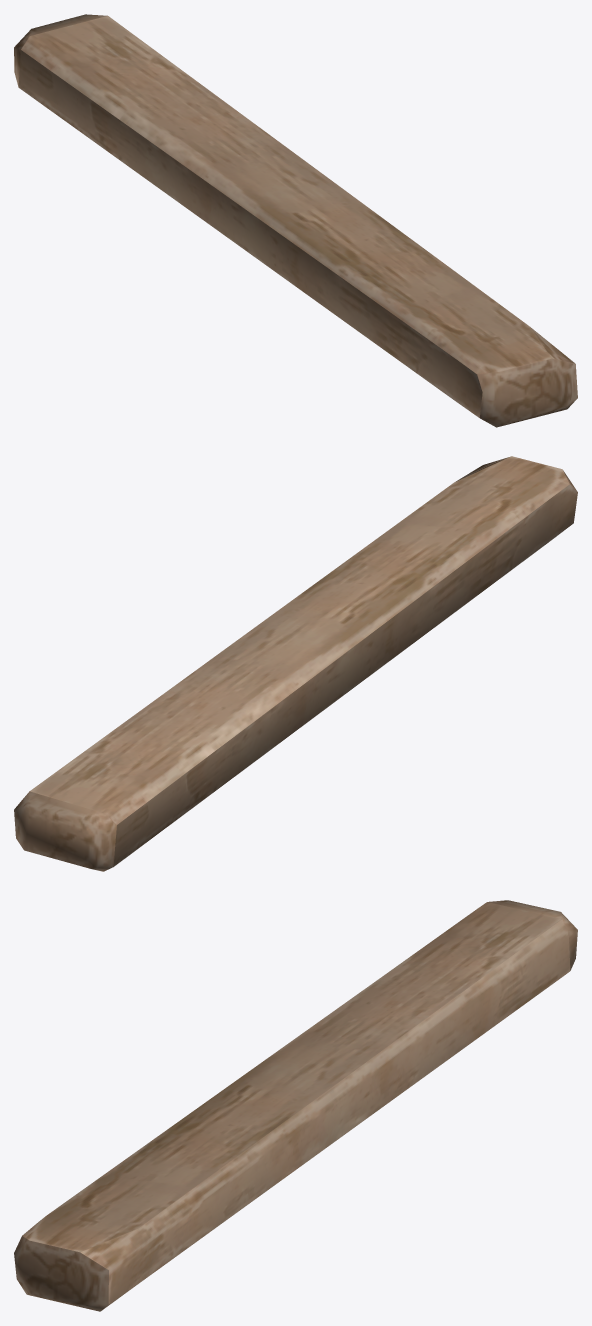
File: BeamShort.fbx
3 views of the same model, one above another, from view 1: azimuth 30°, elevation 25°; view 2: azimuth 150°, elevation 25°; view 3: azimuth 330°, elevation 25° (orthographic).
Visible parts, largest first — view 1: BeamShort; view 2: BeamShort; view 3: BeamShort.
Part boxes in pixels (x1,y1,x2,y2): BeamShort: (14, 14, 577, 427); BeamShort: (14, 456, 577, 871); BeamShort: (14, 900, 577, 1311).
Size of the model in its own units: 0.124 by 0.0766 by 1.07.
